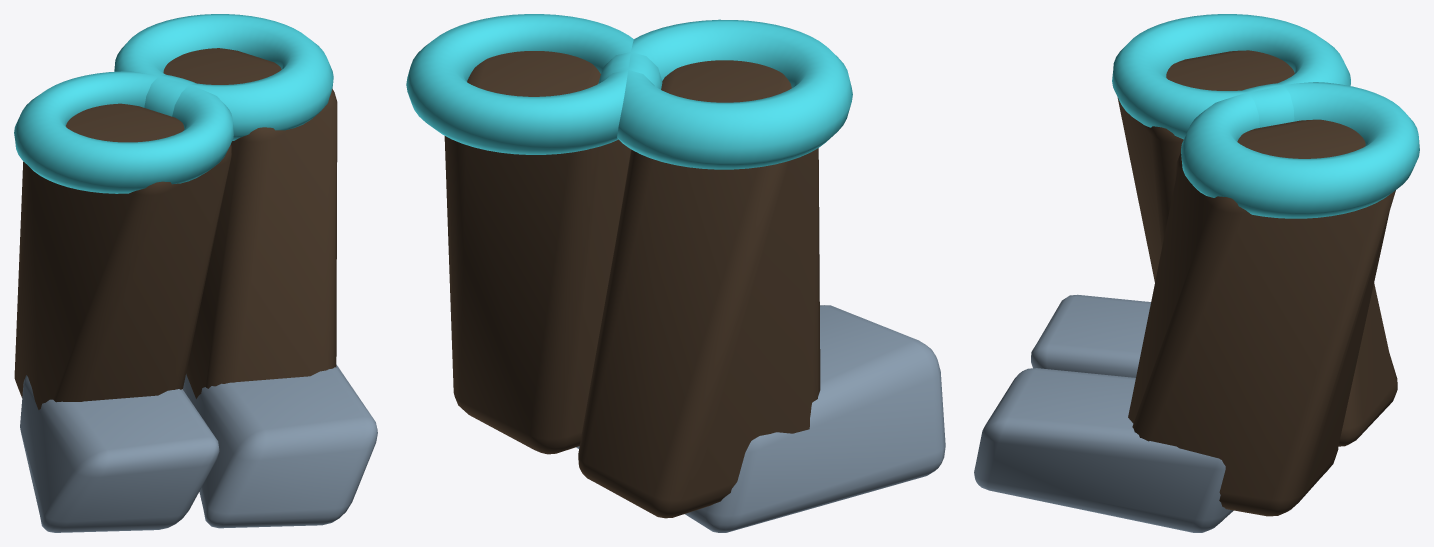
The model's file is boots_v6.glb.
3 views of the same model, side by side, from view 1: azimuth 30°, elevation 25°; view 2: azimuth 150°, elevation 25°; view 3: azimuth 270°, elevation 25° (orthographic). The views are drawn at different scales.
Visible parts, largest first — view 1: FUR_BOOT_SECONDARY, FUR_BOOT_SECONDARY.001, FUR_BOOT_FOOT_PRIMARY.001, FUR_BOOT_FOOT_PRIMARY, FUR_CUFF_ACCENT, FUR_CUFF_ACCENT.001; view 2: FUR_BOOT_SECONDARY, FUR_BOOT_SECONDARY.001, FUR_BOOT_FOOT_PRIMARY, FUR_CUFF_ACCENT, FUR_CUFF_ACCENT.001; view 3: FUR_BOOT_SECONDARY.001, FUR_BOOT_FOOT_PRIMARY.001, FUR_CUFF_ACCENT.001, FUR_CUFF_ACCENT, FUR_BOOT_SECONDARY, FUR_BOOT_FOOT_PRIMARY.
Boxes of the visible parts, x1,y1,x2,y2 form: FUR_BOOT_SECONDARY: (14,103,231,409); FUR_BOOT_SECONDARY.001: (163,48,337,398); FUR_BOOT_FOOT_PRIMARY.001: (183,364,377,528); FUR_BOOT_FOOT_PRIMARY: (20,375,219,532); FUR_CUFF_ACCENT: (14,71,234,193); FUR_CUFF_ACCENT.001: (114,14,333,140); FUR_BOOT_SECONDARY: (578,60,820,518); FUR_BOOT_SECONDARY.001: (444,51,630,454); FUR_BOOT_FOOT_PRIMARY: (685,305,945,532); FUR_CUFF_ACCENT: (598,19,852,169); FUR_CUFF_ACCENT.001: (406,14,662,154); FUR_BOOT_SECONDARY.001: (1128,119,1395,516); FUR_BOOT_FOOT_PRIMARY.001: (974,368,1233,532); FUR_CUFF_ACCENT.001: (1181,82,1419,218); FUR_CUFF_ACCENT: (1112,14,1350,139); FUR_BOOT_SECONDARY: (1117,50,1397,446); FUR_BOOT_FOOT_PRIMARY: (1031,294,1150,377).
Size of the model in its own units: 1.92 by 1.83 by 1.9.
